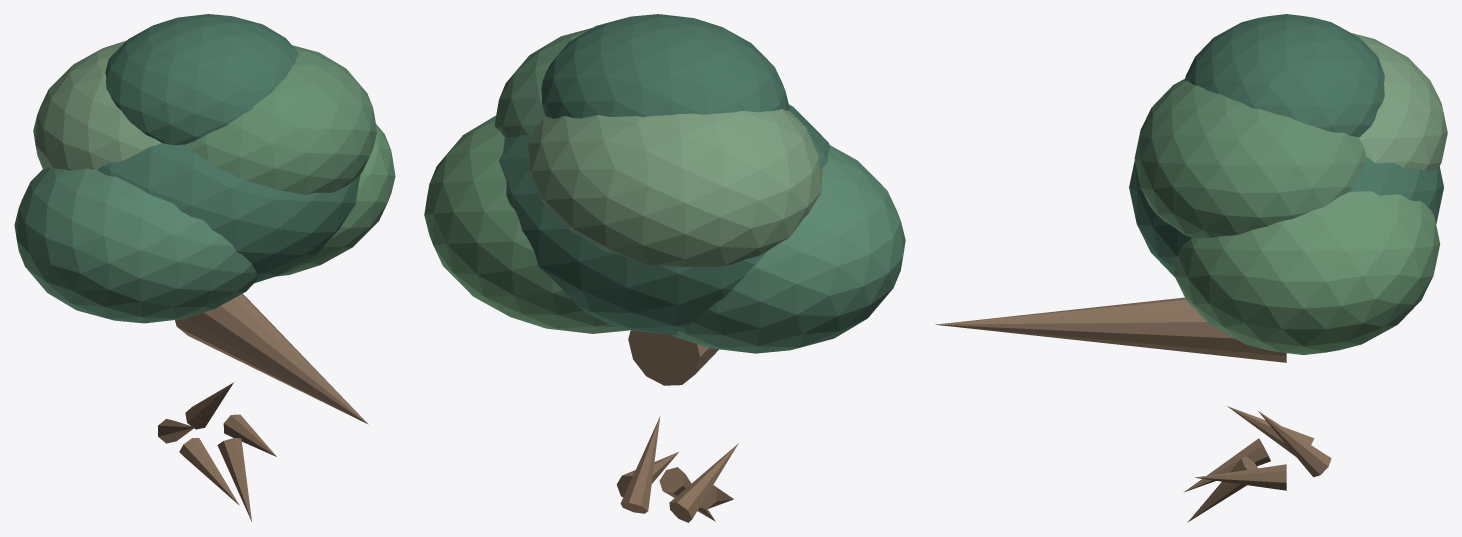
Rendered from ancient_oak.glb.
3 renders of one model, left to right at view 1: azimuth 30°, elevation 25°; view 2: azimuth 150°, elevation 25°; view 3: azimuth 270°, elevation 25°, orthographic. The views are drawn at different scales.
Parts seen in each view (by area): view 1: Canopy_1, Canopy_5, Canopy_4, Canopy_0, Canopy_3, OldOak_Trunk, Canopy_2, Root_1, Root_2, Root_4, Root_0, Root_3; view 2: Canopy_3, Canopy_1, Canopy_5, Canopy_2, Canopy_0, Canopy_4, OldOak_Trunk, Root_4, Root_3, Root_1; view 3: Canopy_2, Canopy_4, Canopy_5, OldOak_Trunk, Canopy_3, Canopy_0, Root_0, Root_4, Root_2, Root_1, Root_3.
Boxes of the visible parts, x1=… form: Canopy_1: x1=14, y1=167, x2=258, y2=323; Canopy_5: x1=105, y1=14, x2=298, y2=144; Canopy_4: x1=185, y1=45, x2=376, y2=194; Canopy_0: x1=97, y1=143, x2=360, y2=283; Canopy_3: x1=33, y1=40, x2=161, y2=170; OldOak_Trunk: x1=175, y1=293, x2=368, y2=424; Canopy_2: x1=276, y1=124, x2=395, y2=276; Root_1: x1=217, y1=438, x2=251, y2=521; Root_2: x1=179, y1=438, x2=239, y2=505; Root_4: x1=185, y1=382, x2=233, y2=429; Root_0: x1=223, y1=414, x2=276, y2=456; Root_3: x1=158, y1=419, x2=194, y2=443; Canopy_3: x1=528, y1=109, x2=822, y2=266; Canopy_1: x1=672, y1=145, x2=905, y2=353; Canopy_5: x1=541, y1=14, x2=789, y2=118; Canopy_2: x1=424, y1=115, x2=629, y2=333; Canopy_0: x1=499, y1=104, x2=830, y2=334; Canopy_4: x1=494, y1=28, x2=591, y2=137; OldOak_Trunk: x1=628, y1=330, x2=718, y2=385; Root_4: x1=620, y1=416, x2=660, y2=513; Root_3: x1=669, y1=443, x2=738, y2=522; Root_1: x1=659, y1=467, x2=715, y2=521; Canopy_2: x1=1172, y1=191, x2=1440, y2=354; Canopy_4: x1=1134, y1=79, x2=1365, y2=237; Canopy_5: x1=1184, y1=14, x2=1384, y2=137; OldOak_Trunk: x1=935, y1=297, x2=1286, y2=362; Canopy_3: x1=1352, y1=33, x2=1447, y2=170; Canopy_0: x1=1129, y1=157, x2=1443, y2=276; Root_0: x1=1195, y1=464, x2=1286, y2=490; Root_4: x1=1258, y1=411, x2=1331, y2=477; Root_2: x1=1183, y1=438, x2=1270, y2=492; Root_1: x1=1187, y1=456, x2=1257, y2=522; Root_3: x1=1227, y1=406, x2=1314, y2=456.
Bounding box in the file's own units: 7.35 × 8.78 × 8.31.
